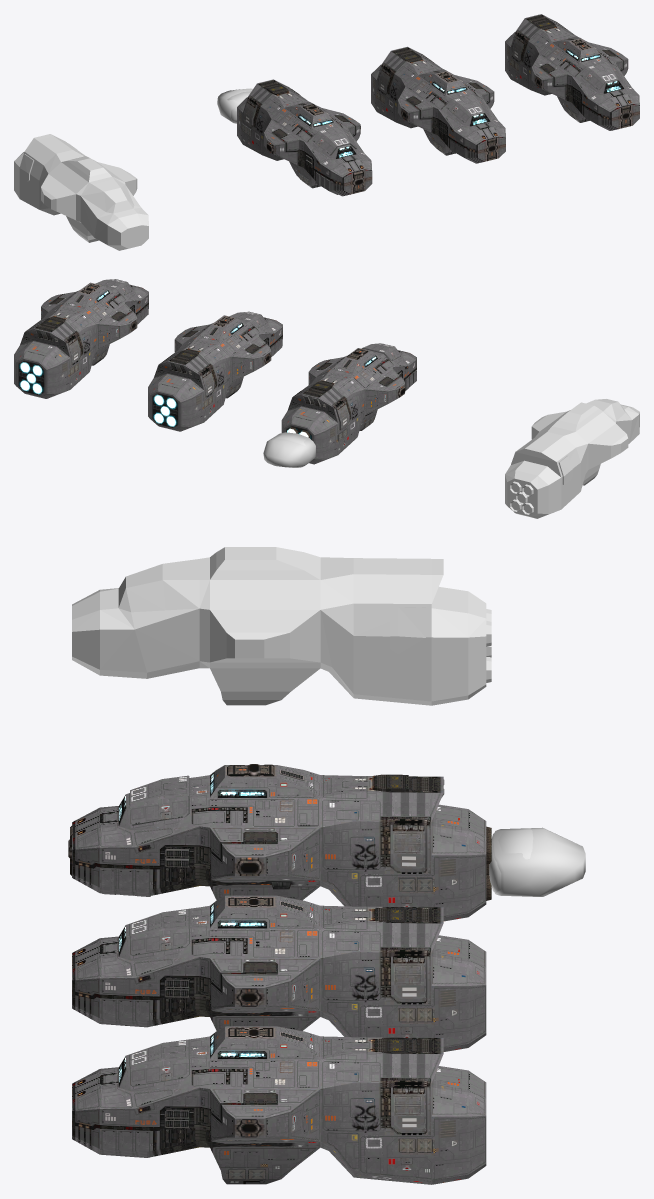
File: hgn_smt_multibeamfrigate.dae
3 renders of one model, top to bottom at view 1: azimuth 30°, elevation 25°; view 2: azimuth 150°, elevation 25°; view 3: azimuth 270°, elevation 25°, orthographic. The views are drawn at different scales.
Visible parts, largest first — view 1: MULT[Root_mesh]_LOD[1], MULT[Root_mesh]_LOD[2], COL[Root], MULT[Root_mesh]_LOD[0], GOBG[Root_goblins], GLOW[EngineGlow4]_LOD[0]; view 2: COL[Root], MULT[Root_mesh]_LOD[1], MULT[Root_mesh]_LOD[2], MULT[Root_mesh]_LOD[0], GOBG[Root_goblins], GLOW[EngineGlow4]_LOD[0]; view 3: COL[Root], MULT[Root_mesh]_LOD[2], MULT[Root_mesh]_LOD[1], MULT[Root_mesh]_LOD[0], GOBG[Root_goblins], GLOW[EngineGlow4]_LOD[0].
Boxes of the visible parts, left/top/right/bottom form: MULT[Root_mesh]_LOD[1]: left=371, top=46, right=505, bottom=163; MULT[Root_mesh]_LOD[2]: left=505, top=14, right=639, bottom=130; COL[Root]: left=14, top=134, right=148, bottom=250; MULT[Root_mesh]_LOD[0]: left=237, top=79, right=372, bottom=196; GOBG[Root_goblins]: left=241, top=84, right=363, bottom=194; GLOW[EngineGlow4]_LOD[0]: left=217, top=88, right=252, bottom=123; COL[Root]: left=505, top=399, right=639, bottom=518; MULT[Root_mesh]_LOD[1]: left=148, top=311, right=282, bottom=431; MULT[Root_mesh]_LOD[2]: left=14, top=279, right=148, bottom=398; MULT[Root_mesh]_LOD[0]: left=281, top=348, right=416, bottom=464; GOBG[Root_goblins]: left=302, top=343, right=416, bottom=441; GLOW[EngineGlow4]_LOD[0]: left=263, top=432, right=315, bottom=467; COL[Root]: left=72, top=547, right=491, bottom=705; MULT[Root_mesh]_LOD[2]: left=72, top=1026, right=486, bottom=1184; MULT[Root_mesh]_LOD[1]: left=72, top=895, right=486, bottom=1051; MULT[Root_mesh]_LOD[0]: left=72, top=765, right=491, bottom=921; GOBG[Root_goblins]: left=68, top=764, right=444, bottom=898; GLOW[EngineGlow4]_LOD[0]: left=489, top=827, right=585, bottom=896.
Size of what is drawn, in the model's own units: 378 by 47.26 by 147.
Materials: 1 (1 with a texture image).
